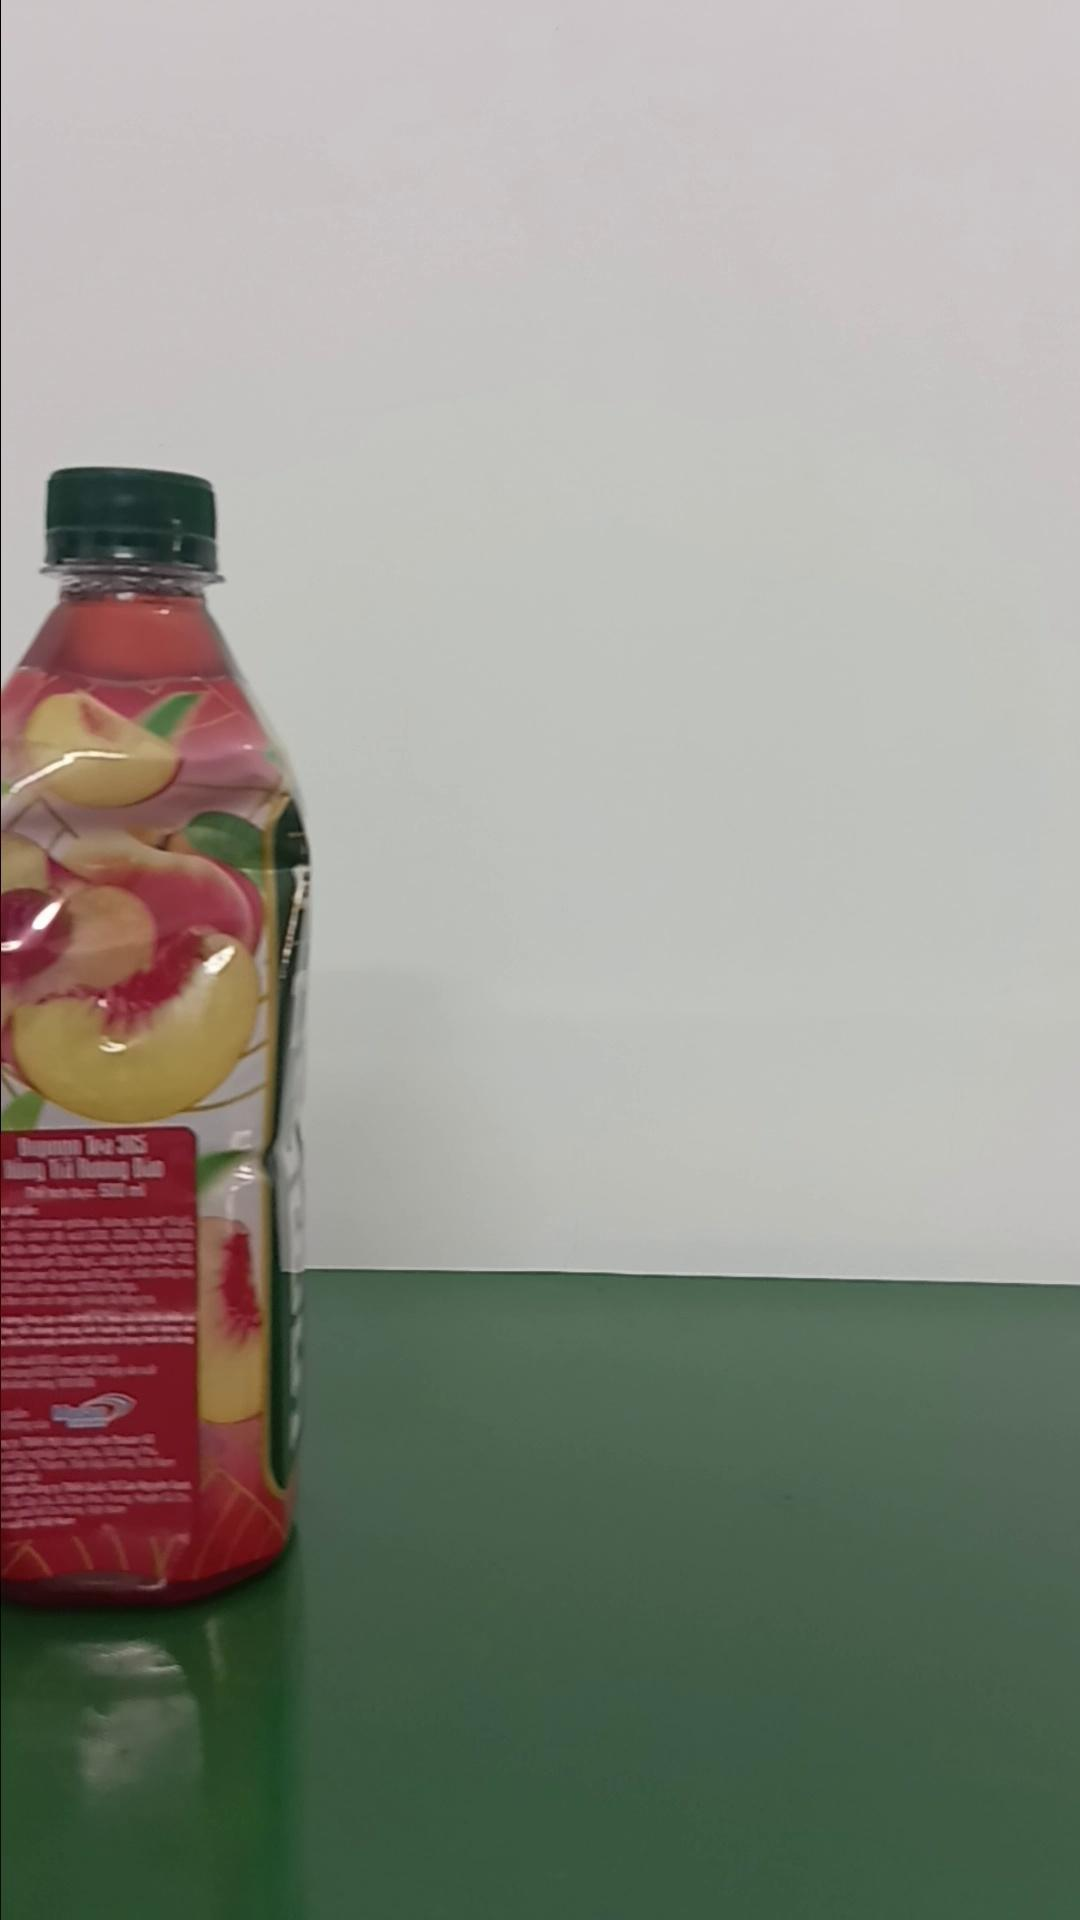loi meo sp: (2, 463, 316, 1606)
